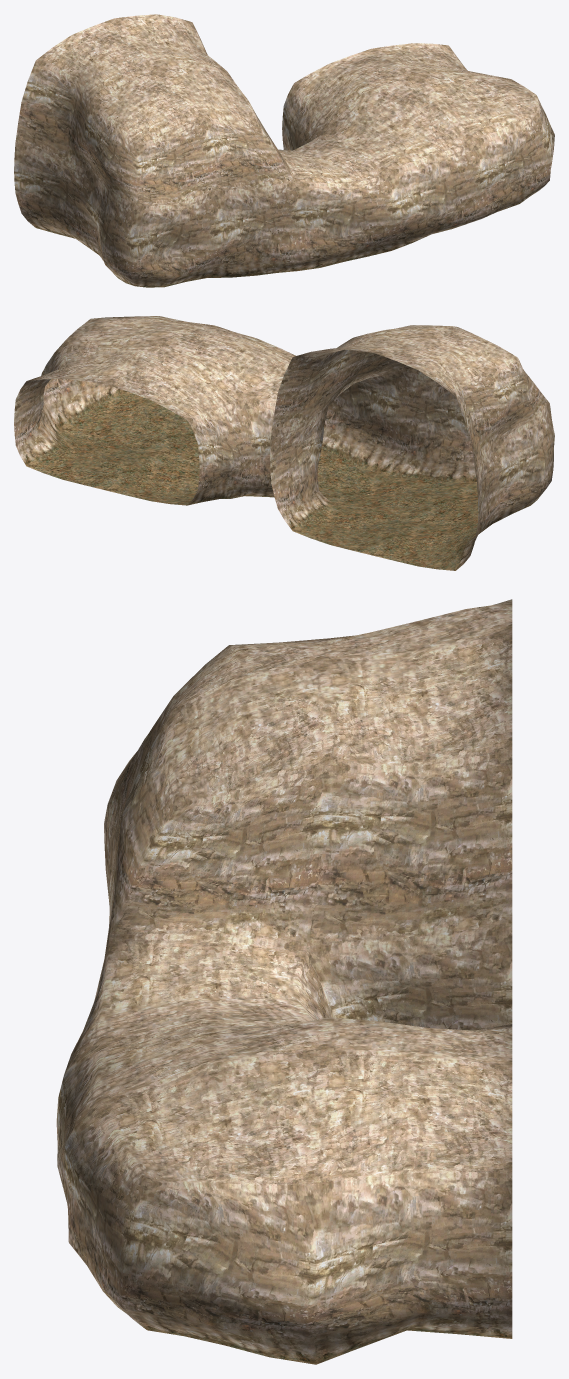
File: thm_all_cave_s03_mirror_r8_mesh_r8.fbx
3 views of the same model, one above another, from view 1: azimuth 30°, elevation 25°; view 2: azimuth 150°, elevation 25°; view 3: azimuth 270°, elevation 25° (orthographic). The views are drawn at different scales.
Parts seen in each view (by area): view 1: mesh_node; view 2: mesh_node; view 3: mesh_node.
Boxes of the visible parts, left/top/right/bottom form: mesh_node: left=14, top=14, right=554, bottom=287; mesh_node: left=14, top=316, right=554, bottom=570; mesh_node: left=56, top=599, right=512, bottom=1364.
Bounding box in the file's own units: 44.12 × 18.91 × 18.42.
